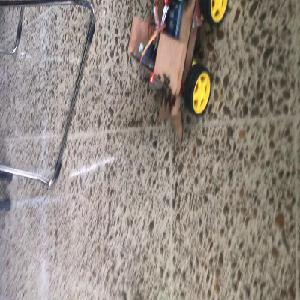Robot: (128, 2, 226, 142)
